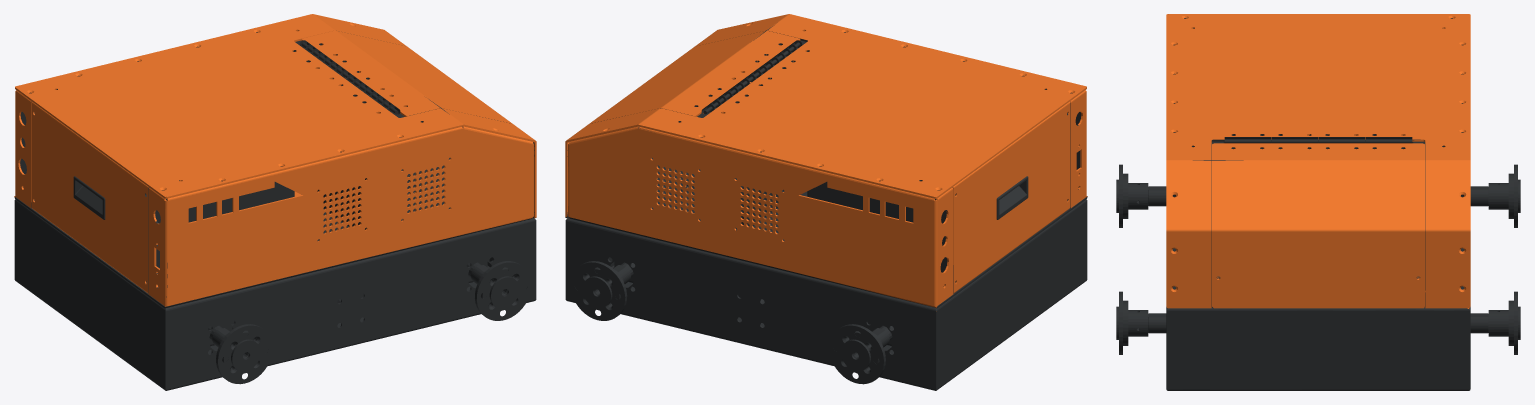
File: copernicus.dae
The picture shows the model from 3 angles, left to right: view 1: azimuth 30°, elevation 25°; view 2: azimuth 150°, elevation 25°; view 3: azimuth 270°, elevation 25°; orthographic projection.
Visible parts, largest first — view 1: Copernicus; view 2: Copernicus; view 3: Copernicus.
Part boxes in pixels (x1=…): Copernicus: x1=14, y1=14, x2=536, y2=390; Copernicus: x1=565, y1=14, x2=1087, y2=390; Copernicus: x1=1116, y1=14, x2=1520, y2=390.
Size of the model in its own units: 6.48 by 6.06 by 3.31.
